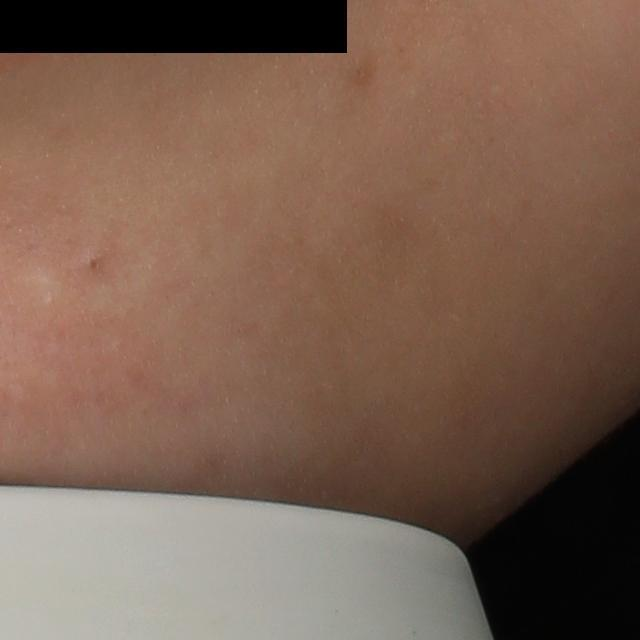comedo: (82, 250, 106, 272)
hypertrophic_scar: (22, 269, 67, 319)
